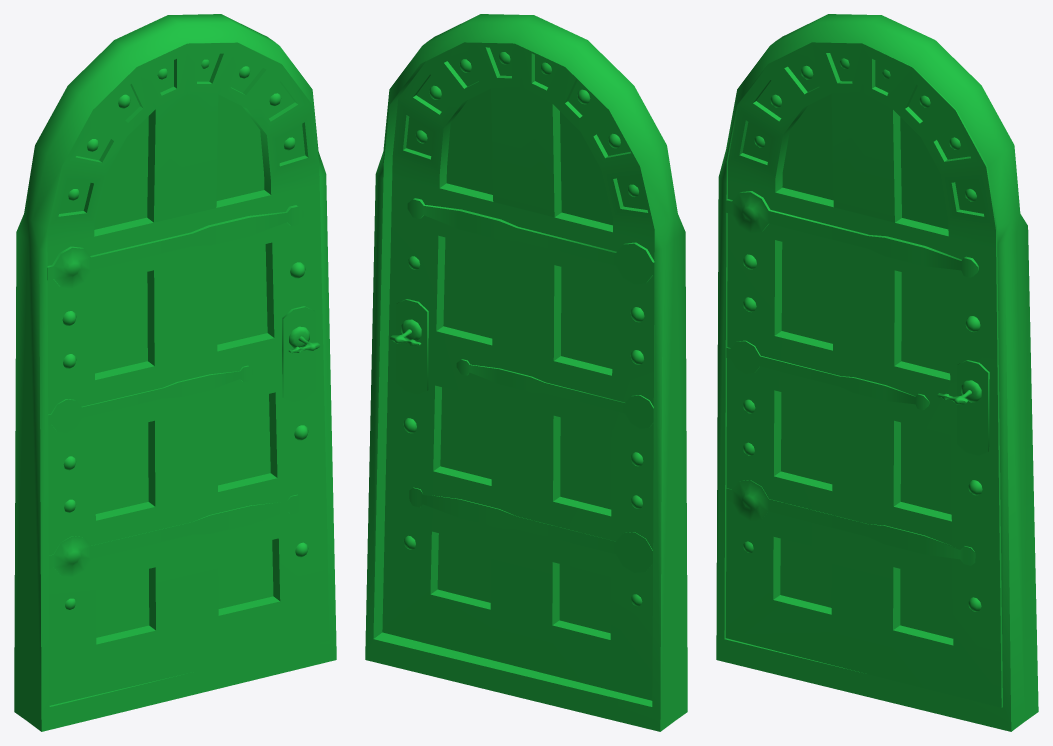
Rendered from Door Closed.fbx.
3 renders of one model, left to right at view 1: azimuth 30°, elevation 25°; view 2: azimuth 150°, elevation 25°; view 3: azimuth 330°, elevation 25°, orthographic.
Parts seen in each view (by area): view 1: Entryway_000, Entryway_001; view 2: Entryway_000, Entryway_001; view 3: Entryway_000, Entryway_001.
Part boxes in pixels (bbox=[...]): Entryway_000: bbox=[47, 42, 329, 705]; Entryway_001: bbox=[14, 14, 336, 731]; Entryway_000: bbox=[382, 42, 654, 700]; Entryway_001: bbox=[365, 14, 687, 731]; Entryway_000: bbox=[726, 42, 1002, 707]; Entryway_001: bbox=[716, 14, 1038, 731].
Bounding box in the file's own units: 178 × 384 × 51.85.
